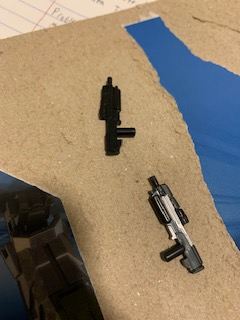rifle: (144, 175, 206, 276), (97, 76, 138, 165)
